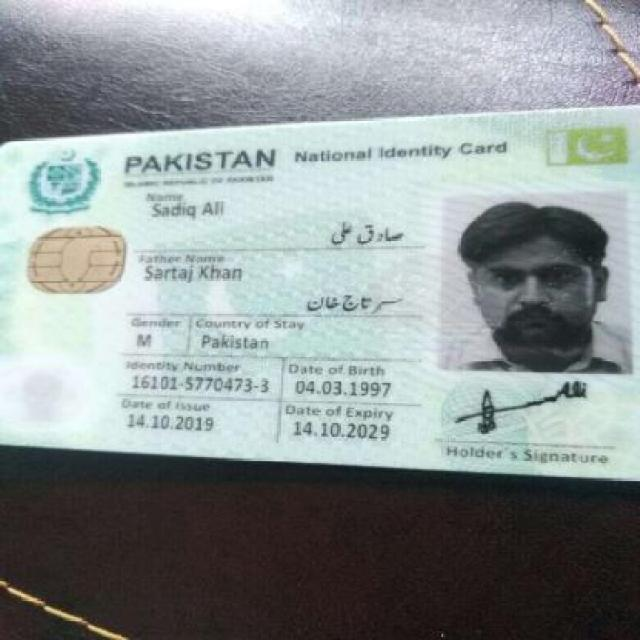Front: (6, 125, 637, 469)
